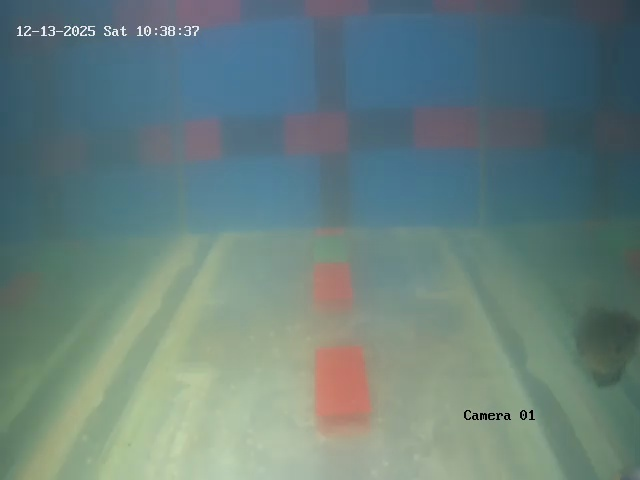fish: (573, 303, 635, 386)
